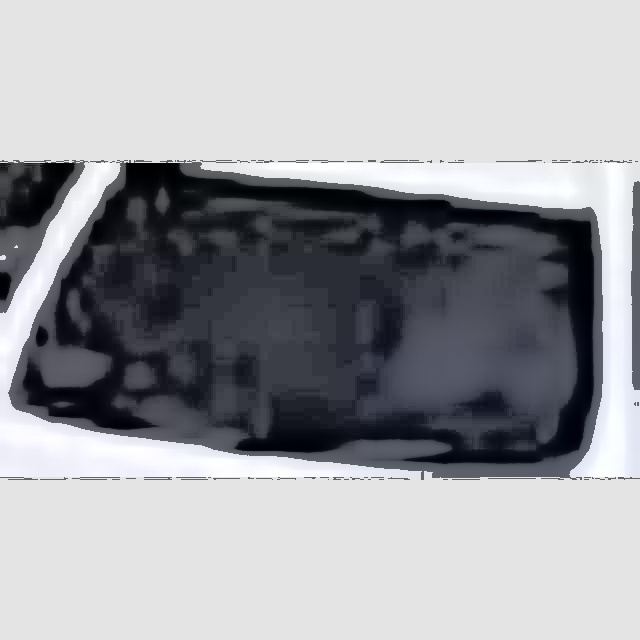tidak-pakai: (382, 230, 561, 421)
